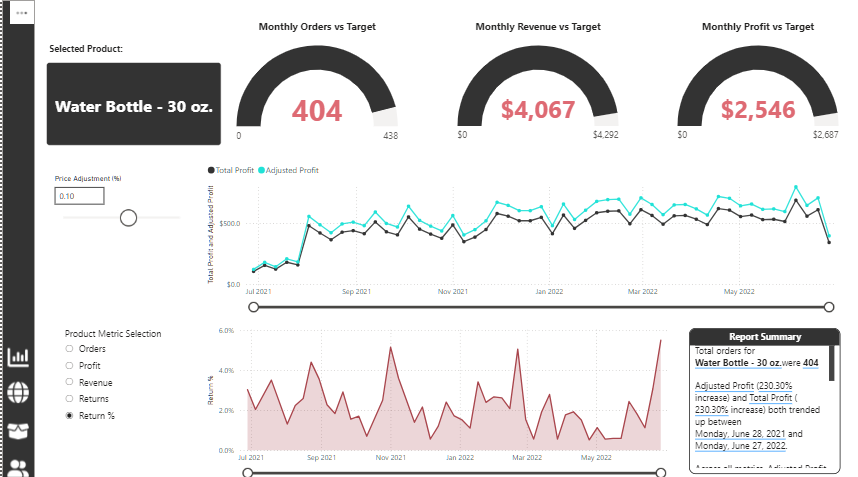

This screenshot's page, from the dashboard's own definition file:
{"tool":"powerbi","page":{"name":"Product Detail","canvas":[1280,720],"ordinal":2},"visuals":[{"type":"shape","box":[0,0,48.6,720],"z":0},{"type":"gauge","title":"Monthly Orders vs Target","fields":{"MaxValue":["Measure Table.Order Target"],"Y":["Measure Table.Total Orders"]},"box":[344.9,28.2,251.3,206.4],"z":1000},{"type":"actionButton","box":[0,513.9,48.6,40.3],"z":1000,"group":"g1"},{"type":"gauge","title":"Monthly Revenue vs Target","fields":{"MaxValue":["Measure Table.Revenue Target"],"Y":["Measure Table.Total Revenue"]},"box":[674.3,28.2,250.8,206.3],"z":2000},{"type":"actionButton","box":[0,624.1,48.6,40.3],"z":2000,"group":"g1"},{"type":"gauge","title":"Monthly Profit vs Target","fields":{"MaxValue":["Measure Table.Profit Target"],"Y":["Measure Table.Total Profit"]},"box":[1003.2,28.2,250.8,206.3],"z":3000},{"type":"actionButton","box":[0,679.2,48.6,40.3],"z":3000,"group":"g1"},{"type":"lineChart","title":"Profit Trending","fields":{"Category":["Calendar Lookup.Date Hierachy.Start of Year","Calendar Lookup.Date Hierachy.Start of Month","Calendar Lookup.Date Hierachy.Start of Week","Calendar Lookup.Date Hierachy.Date"],"Y":["Measure Table.Total Profit","Measure Table.Adjusted Profit"]},"box":[301.7,234.5,962,234.5],"z":4000},{"type":"actionButton","box":[0,566.7,48.6,40.3],"z":4000,"group":"g1"},{"type":"areaChart","title":"Returns Trending","fields":{"Category":["Calendar Lookup.Date Hierachy.Start of Year","Calendar Lookup.Date Hierachy.Start of Month","Calendar Lookup.Date Hierachy.Start of Week","Calendar Lookup.Date Hierachy.Date"],"Y":["Measure Table.Return Rate"]},"box":[301.4,479.7,710.8,237.8],"z":5000},{"type":"cardVisual","fields":{"Data":["Min(Product Lookup.ProductName)"]},"box":[49.2,76.2,295.2,158.7],"z":6000},{"type":"textbox","box":[65.3,58.3,141.7,31.9],"z":7000},{"type":"group","id":"g1","title":"Navigation Buttons","box":[0,513.9,48.6,205.6],"z":8000},{"type":"slicer","fields":{"Values":["Price Adjustment (%) 3.Price Adjustment (%)"]},"box":[65.7,255.4,222.6,118],"z":9000},{"type":"slicer","fields":{"Values":["Product Metric Selection.Product Metric Selection"]},"box":[80.7,484,207.6,230],"z":10000},{"type":"textbox","title":"Report Summary","box":[1025.7,489.2,225.7,217.6],"z":11000}]}

Visuals, with their boxes on the page's 1280x720 design canvas (x1, y1, x2, y2). These are canvas units, not pixel positions in the 858x477 screenshot, which may show the page scaled, cropped or inside an application window:
shape: [0, 0, 49, 720]
"Monthly Orders vs Target" gauge: [345, 28, 596, 235]
actionButton: [0, 514, 49, 554]
"Monthly Revenue vs Target" gauge: [674, 28, 925, 234]
actionButton: [0, 624, 49, 664]
"Monthly Profit vs Target" gauge: [1003, 28, 1254, 234]
actionButton: [0, 679, 49, 720]
"Profit Trending" lineChart: [302, 234, 1264, 469]
actionButton: [0, 567, 49, 607]
"Returns Trending" areaChart: [301, 480, 1012, 718]
cardVisual - Min(Product Lookup.ProductName): [49, 76, 344, 235]
textbox: [65, 58, 207, 90]
"Navigation Buttons" group: [0, 514, 49, 720]
slicer - Price Adjustment (%) 3.Price Adjustment (%): [66, 255, 288, 373]
slicer - Product Metric Selection.Product Metric Selection: [81, 484, 288, 714]
"Report Summary" textbox: [1026, 489, 1251, 707]
